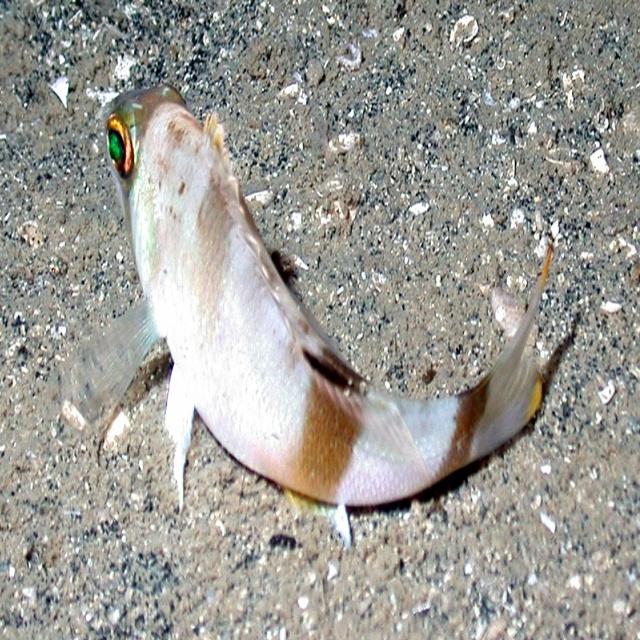Fish: (127, 110, 544, 516)
